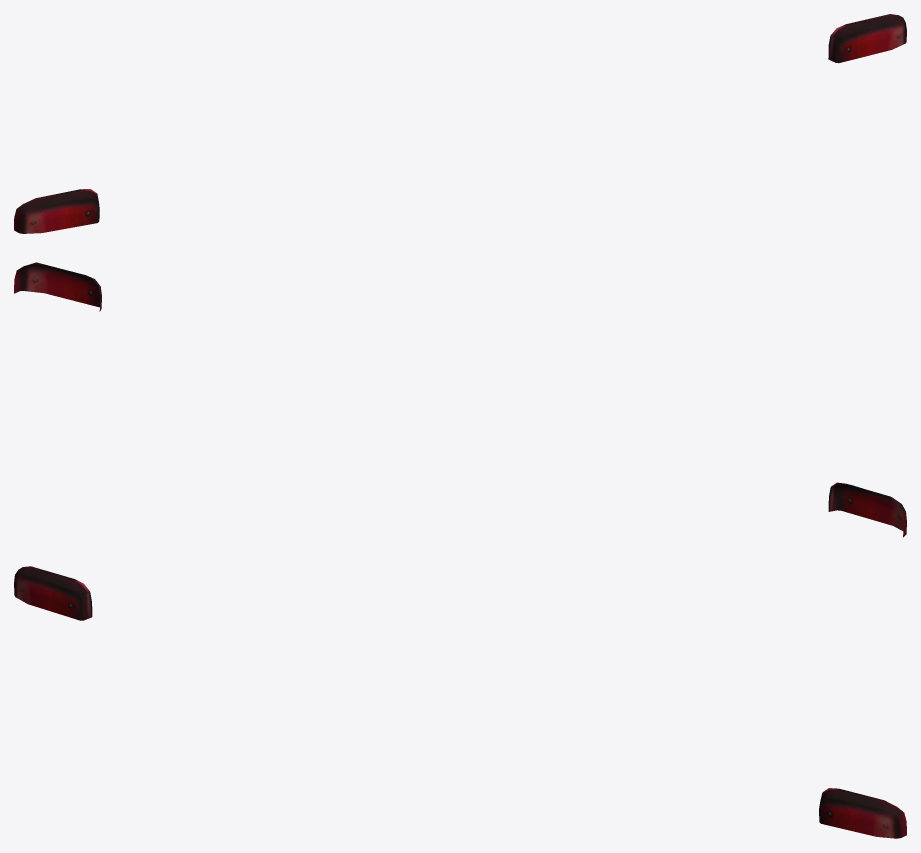
The model's file is shvan92_reverse_ucb_lights_and_glass_0.002_lev3.glb.
3 views of the same model, one above another, from view 1: azimuth 30°, elevation 25°; view 2: azimuth 150°, elevation 25°; view 3: azimuth 330°, elevation 25° (orthographic). The views are drawn at different scales.
Visible parts, largest first — view 1: shvan92_reverse_ucb_lights_and_glass_0.002_lev3; view 2: shvan92_reverse_ucb_lights_and_glass_0.002_lev3; view 3: shvan92_reverse_ucb_lights_and_glass_0.002_lev3.
Part boxes in pixels (<box>): shvan92_reverse_ucb_lights_and_glass_0.002_lev3: <box>14,14,906,233</box>; shvan92_reverse_ucb_lights_and_glass_0.002_lev3: <box>14,262,906,537</box>; shvan92_reverse_ucb_lights_and_glass_0.002_lev3: <box>14,566,906,838</box>.
Size of the model in its own units: 1.65 by 0.059 by 0.1156.
Materials: 1 (1 with a texture image).
